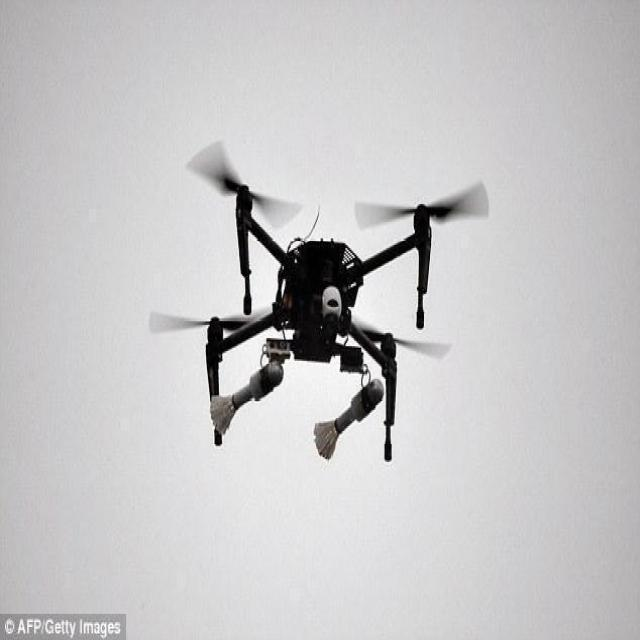UAV: (201, 178, 435, 464)
